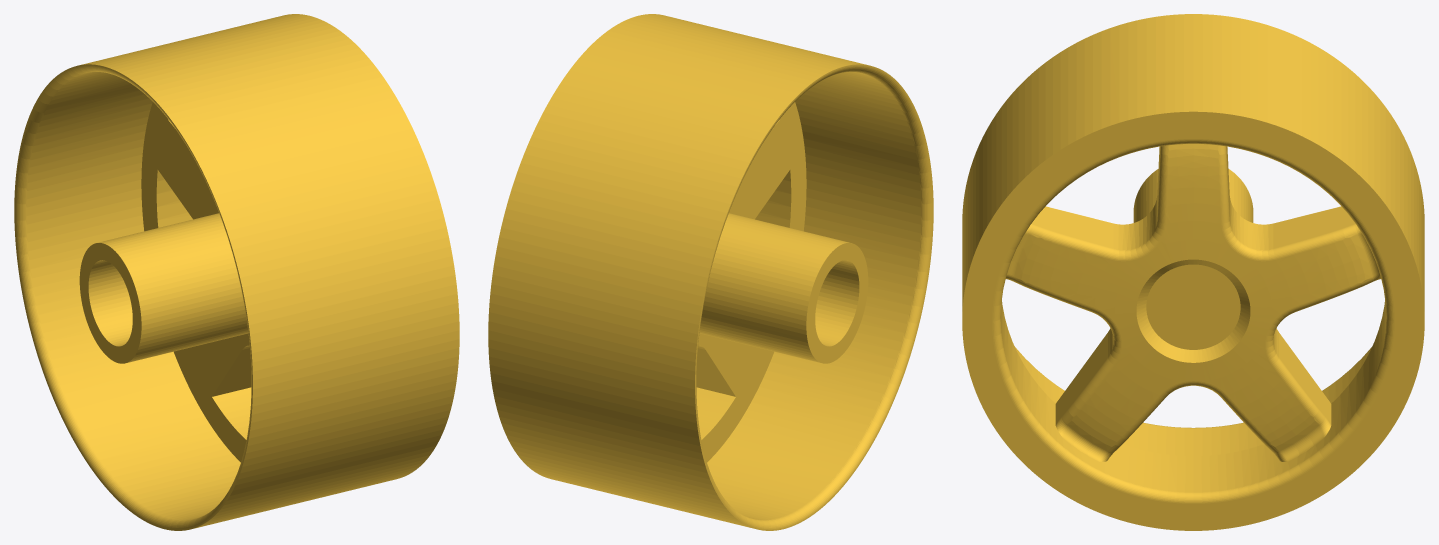
Rendered from twister_rim.dae.
3 views of the same model, side by side, from view 1: azimuth 30°, elevation 25°; view 2: azimuth 150°, elevation 25°; view 3: azimuth 270°, elevation 25° (orthographic). The views are drawn at different scales.
Visible parts, largest first — view 1: 5c4a84738552e816b0156f73; view 2: 5c4a84738552e816b0156f73; view 3: 5c4a84738552e816b0156f73.
Boxes of the visible parts, x1,y1,x2,y2 form: 5c4a84738552e816b0156f73: (14,14,459,530); 5c4a84738552e816b0156f73: (488,14,933,530); 5c4a84738552e816b0156f73: (962,14,1424,530).
Bounding box in the file's own units: 0.03 × 0.054 × 0.054.
